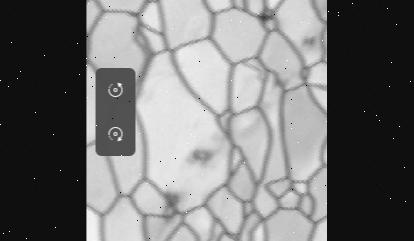good_void: (186, 143, 217, 165), (163, 189, 184, 212), (257, 6, 278, 22), (301, 33, 317, 48)
